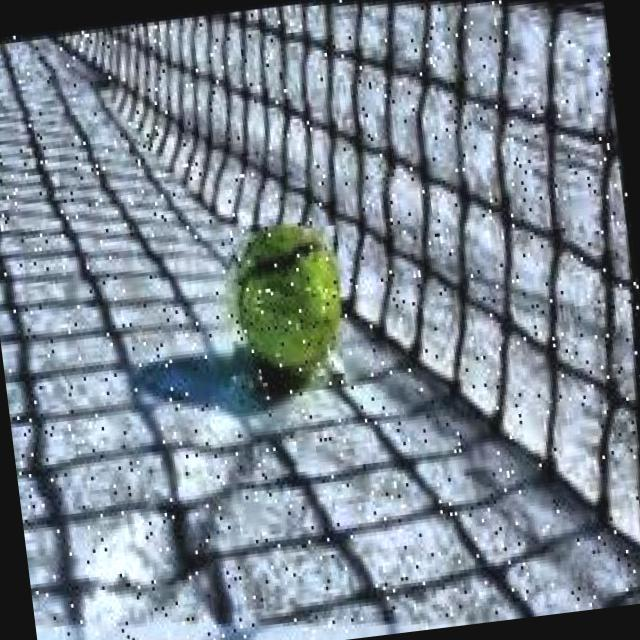Tennis Ball: (212, 214, 358, 407)
